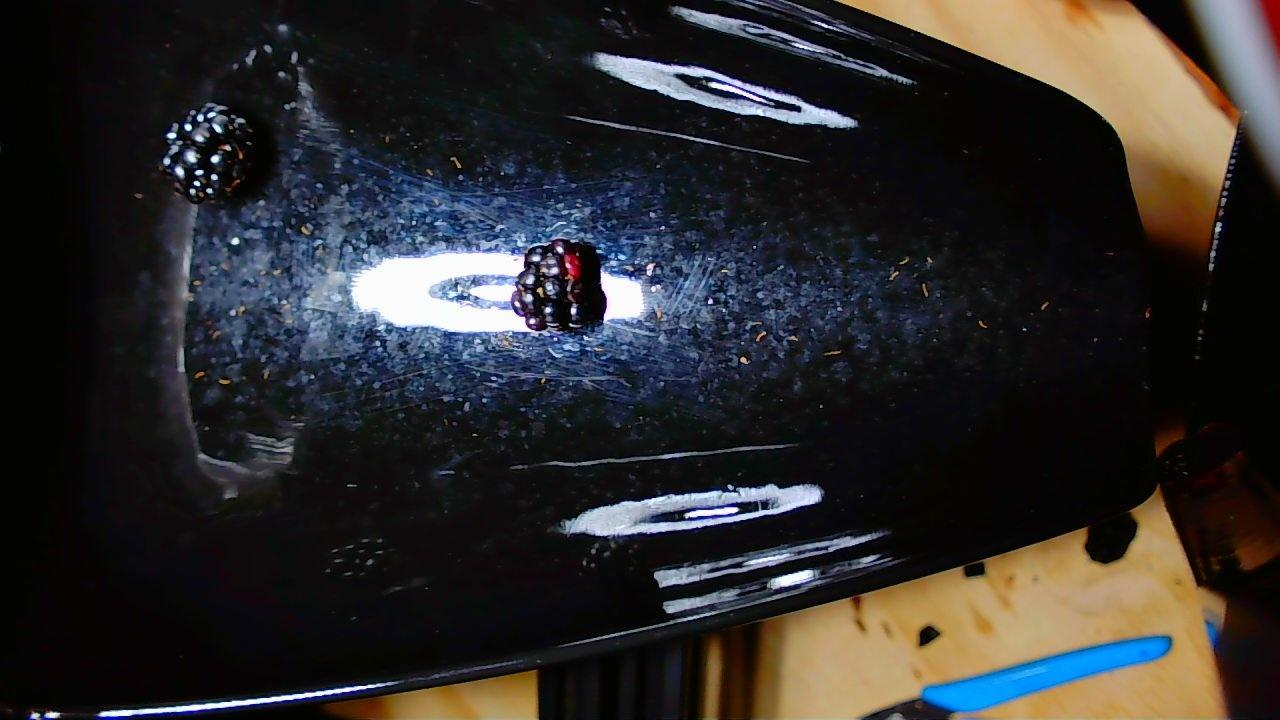berry: (159, 102, 258, 203), (511, 238, 606, 331)
